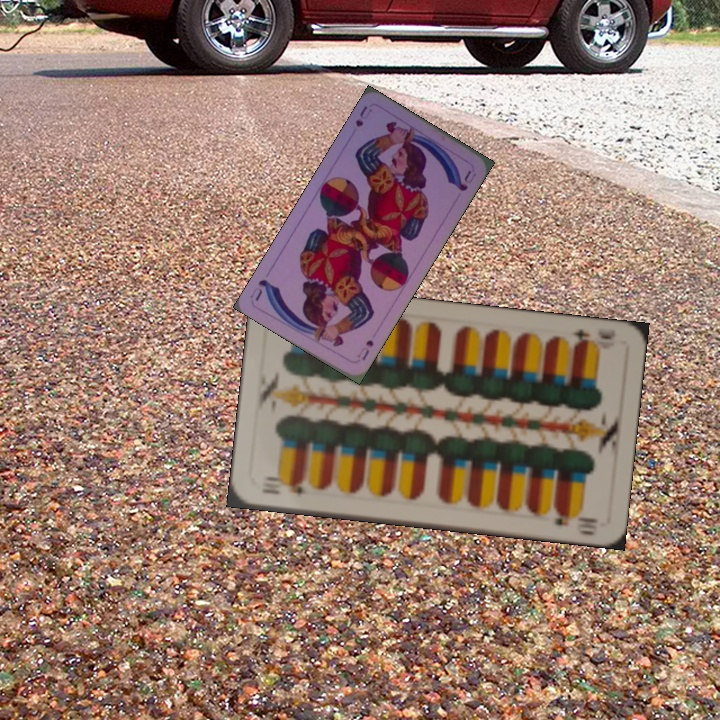E10: (567, 325, 619, 351), (258, 475, 305, 497)
SU: (351, 102, 375, 130), (353, 335, 376, 363)
